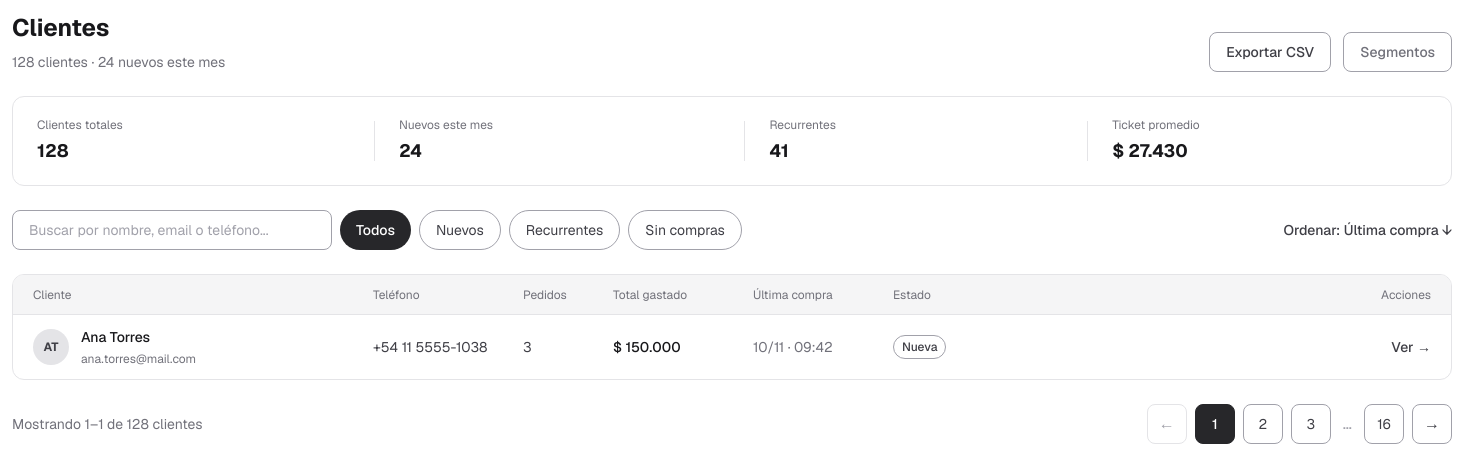
Test case: AdminClientsWorkspace › toggles the sort direction from the control
The width and height of the screenshot is (1464, 461).
Step 1. Click the button "Ordenar: Última compra ↓" → point(1368, 230), box [1283, 220, 1452, 240]
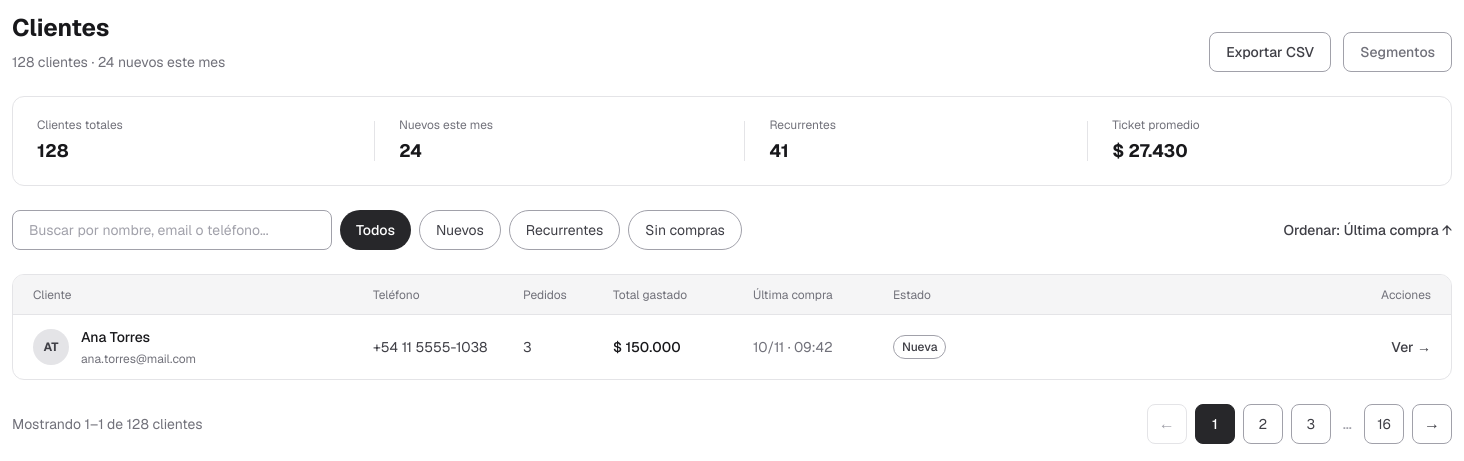
Expected: the button "Ordenar: Última compra ↑" is shown, [1283, 220, 1452, 240]
